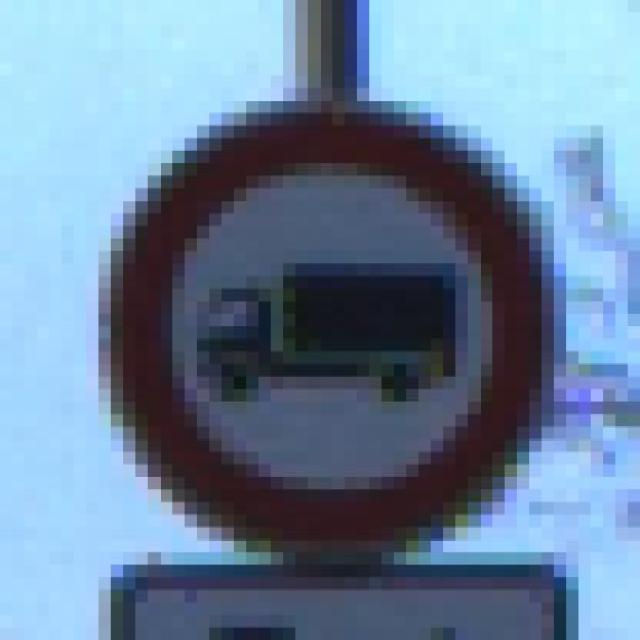Truck traffic is prohibited: (61, 88, 578, 577)
